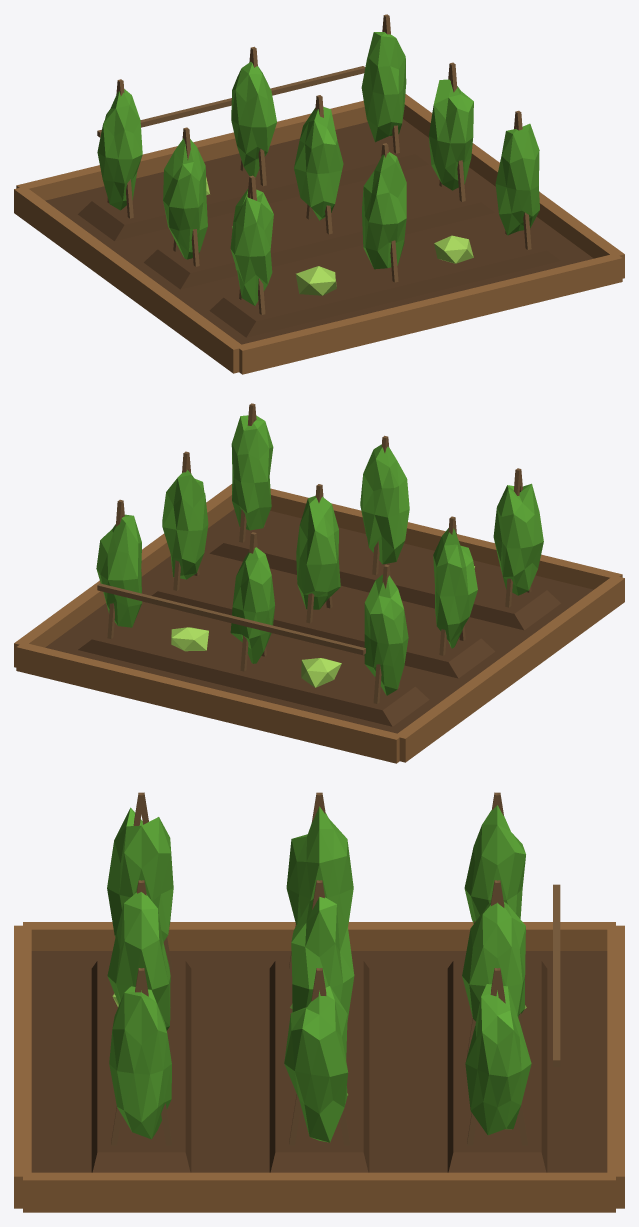
File: garden_plot_2.glb
3 views of the same model, one above another, from view 1: azimuth 30°, elevation 25°; view 2: azimuth 150°, elevation 25°; view 3: azimuth 270°, elevation 25° (orthographic). The views are drawn at different scales.
Parts seen in each view (by area): view 1: garden_plot_2; view 2: garden_plot_2; view 3: garden_plot_2.
Part boxes in pixels (left/top/right/bottom): garden_plot_2: left=14, top=14, right=624, bottom=374; garden_plot_2: left=14, top=403, right=624, bottom=763; garden_plot_2: left=14, top=792, right=624, bottom=1212.
Size of what is drawn, in the model's own units: 4.12 by 1.5 by 4.12.
